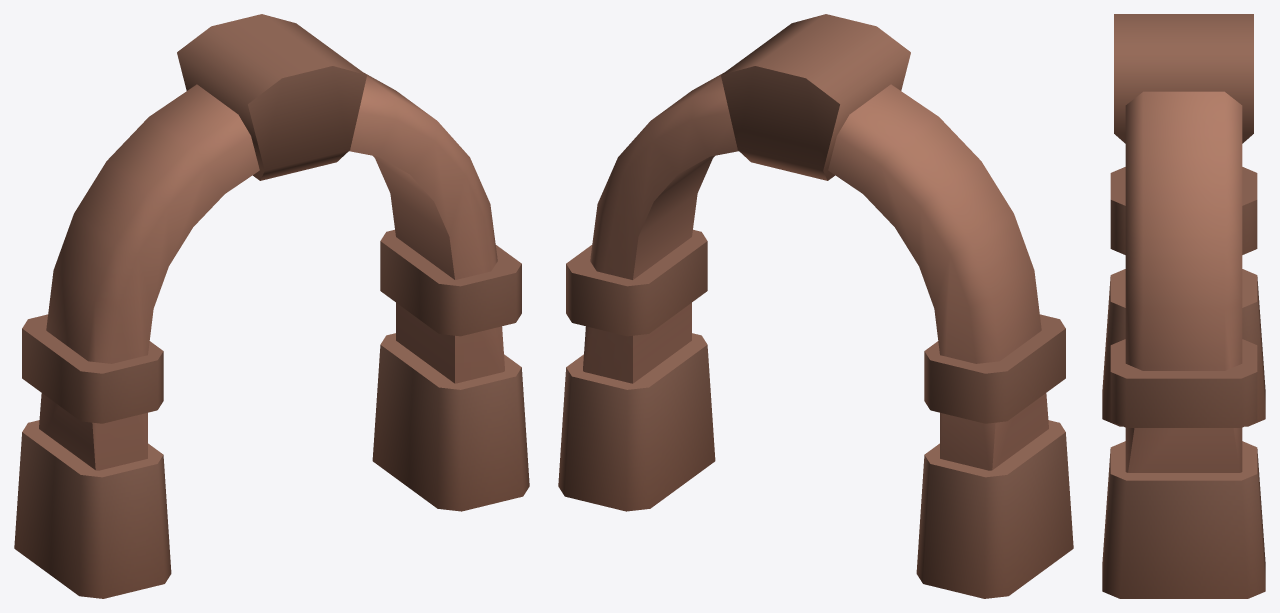
The model's file is gate.glb.
The picture shows the model from 3 angles, left to right: view 1: azimuth 30°, elevation 25°; view 2: azimuth 150°, elevation 25°; view 3: azimuth 270°, elevation 25°; orthographic projection.
Parts seen in each view (by area): view 1: gate; view 2: gate; view 3: gate.
Part boxes in pixels (x1,y1,x2,y2): gate: [14, 14, 529, 598]; gate: [558, 14, 1073, 598]; gate: [1102, 14, 1265, 598].
Size of the model in its own units: 4.4 by 4.4 by 1.4.
1 material, 1 textured.
